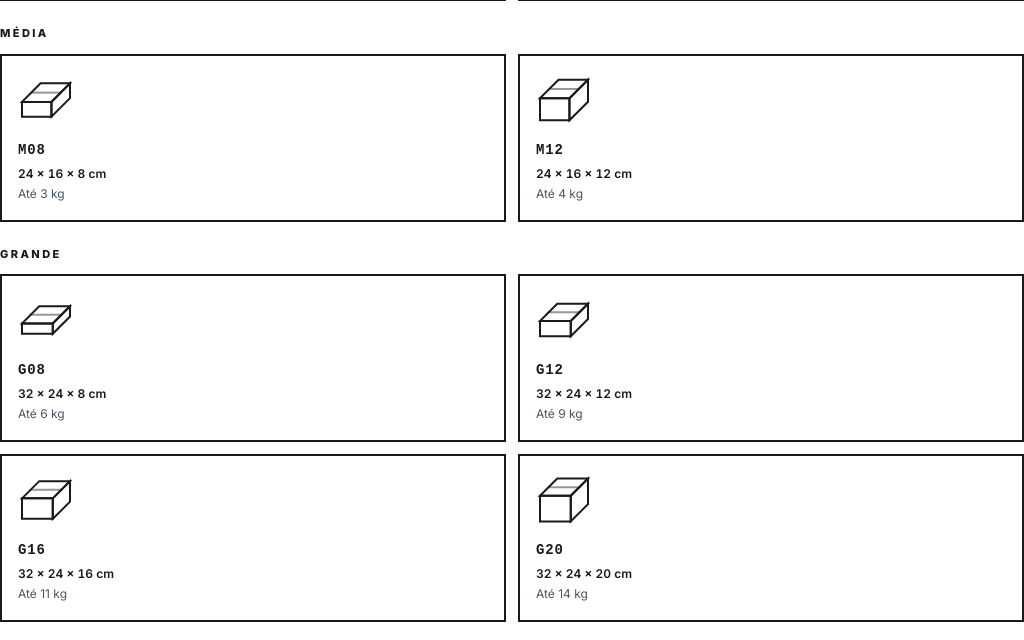
it: VendorPackagingManager › abre a bancada já preenchida com o modelo G08, sem tara
(page scrolled)
Click the button "G08 32 × 24 × 8 cm Até 6 kg".
click(46, 320)  # box [0, 274, 506, 442]
(page scrolled)
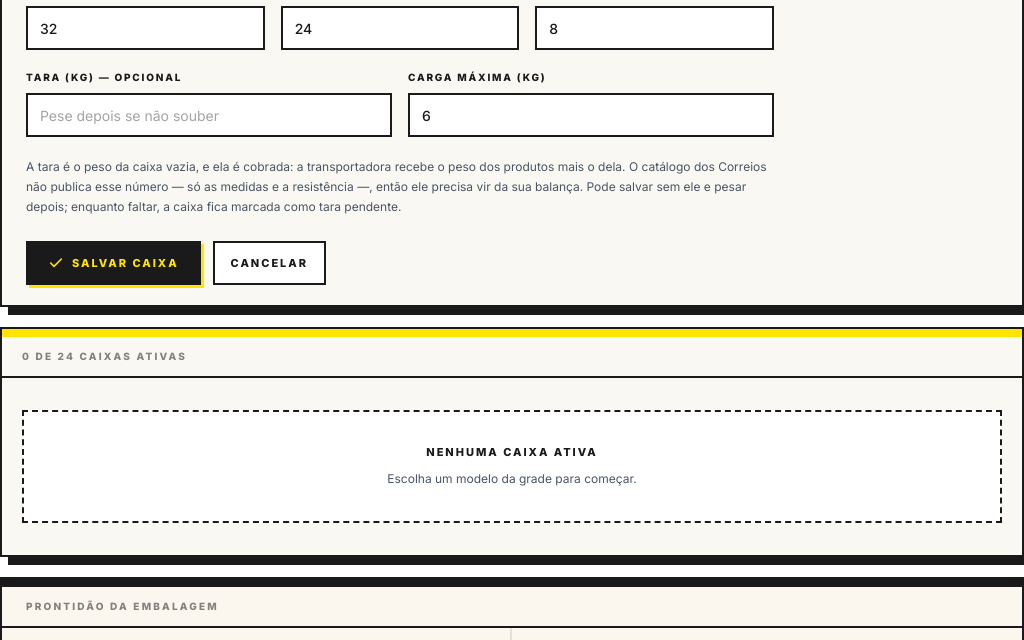
Check: the field labelled "Comprimento (cm)" holds "32", box [26, 6, 265, 50]
Check: the field labelled "Largura (cm)" holds "24", box [281, 6, 519, 50]
Check: the field labelled "Altura (cm)" holds "8", box [535, 6, 774, 50]
